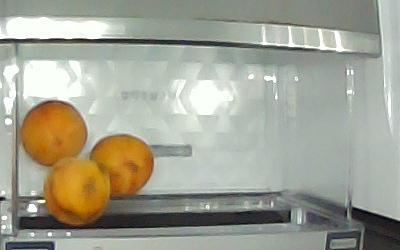peach: (20, 100, 87, 168), (45, 159, 111, 226), (90, 134, 154, 198)
